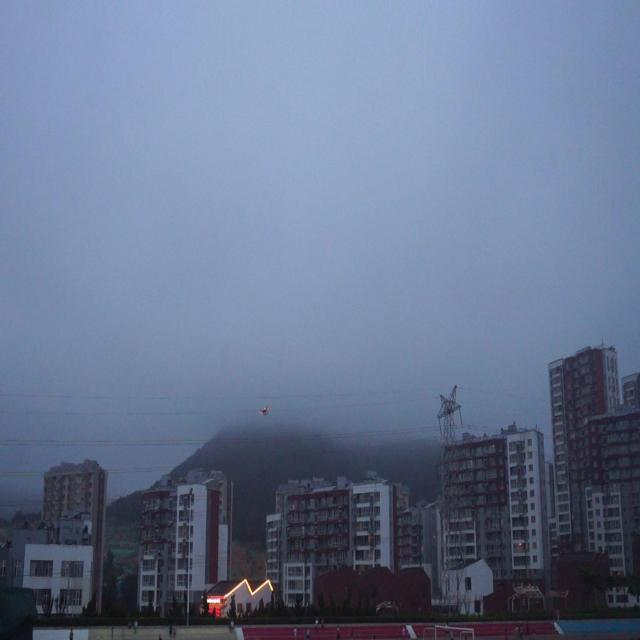drone: (258, 402, 272, 420)
